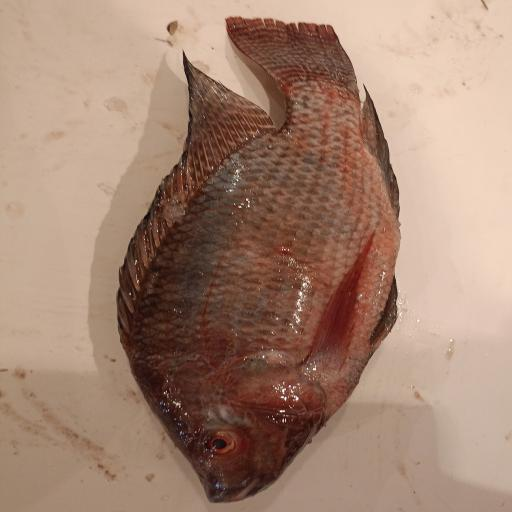Tilapia: (116, 17, 402, 504)
